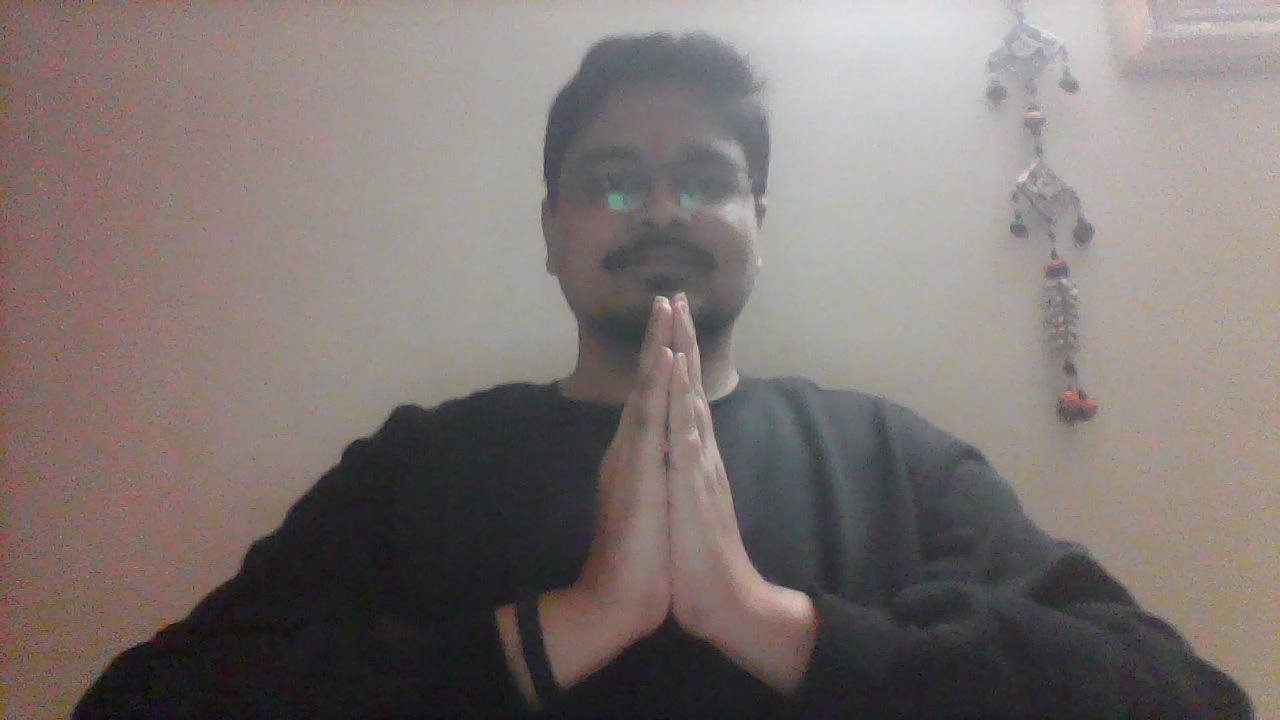Namaste: (572, 289, 770, 648)
